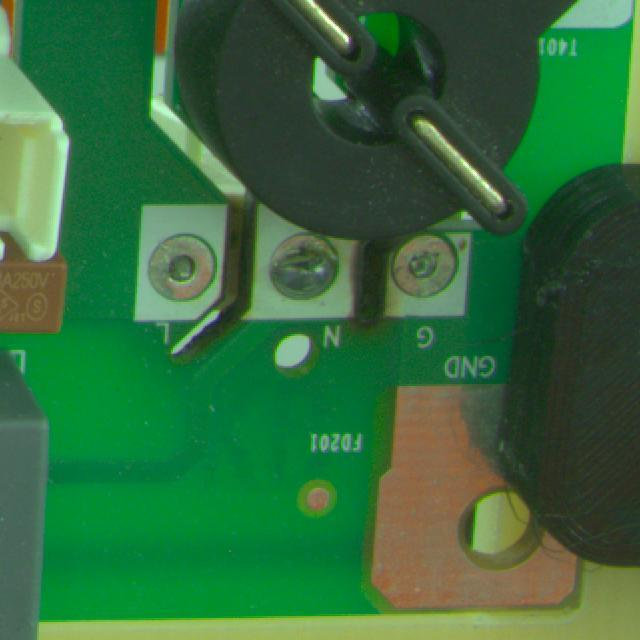Insufficient solder: (140, 231, 222, 309), (388, 225, 459, 315)
